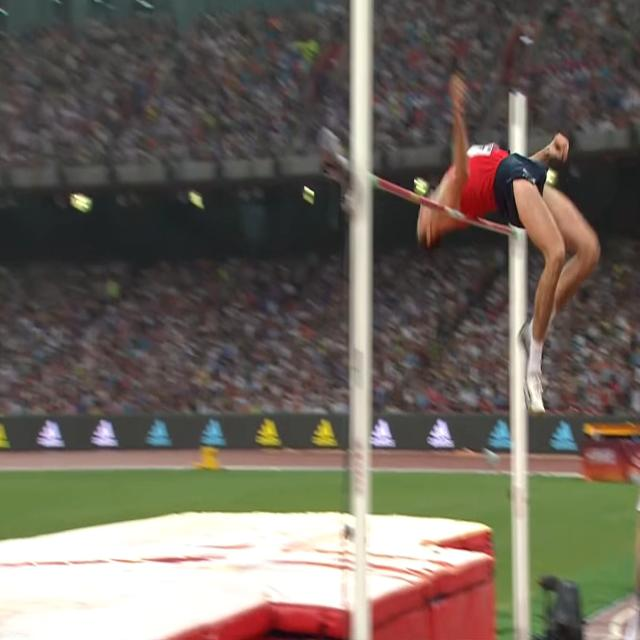jump: (418, 74, 599, 411)
